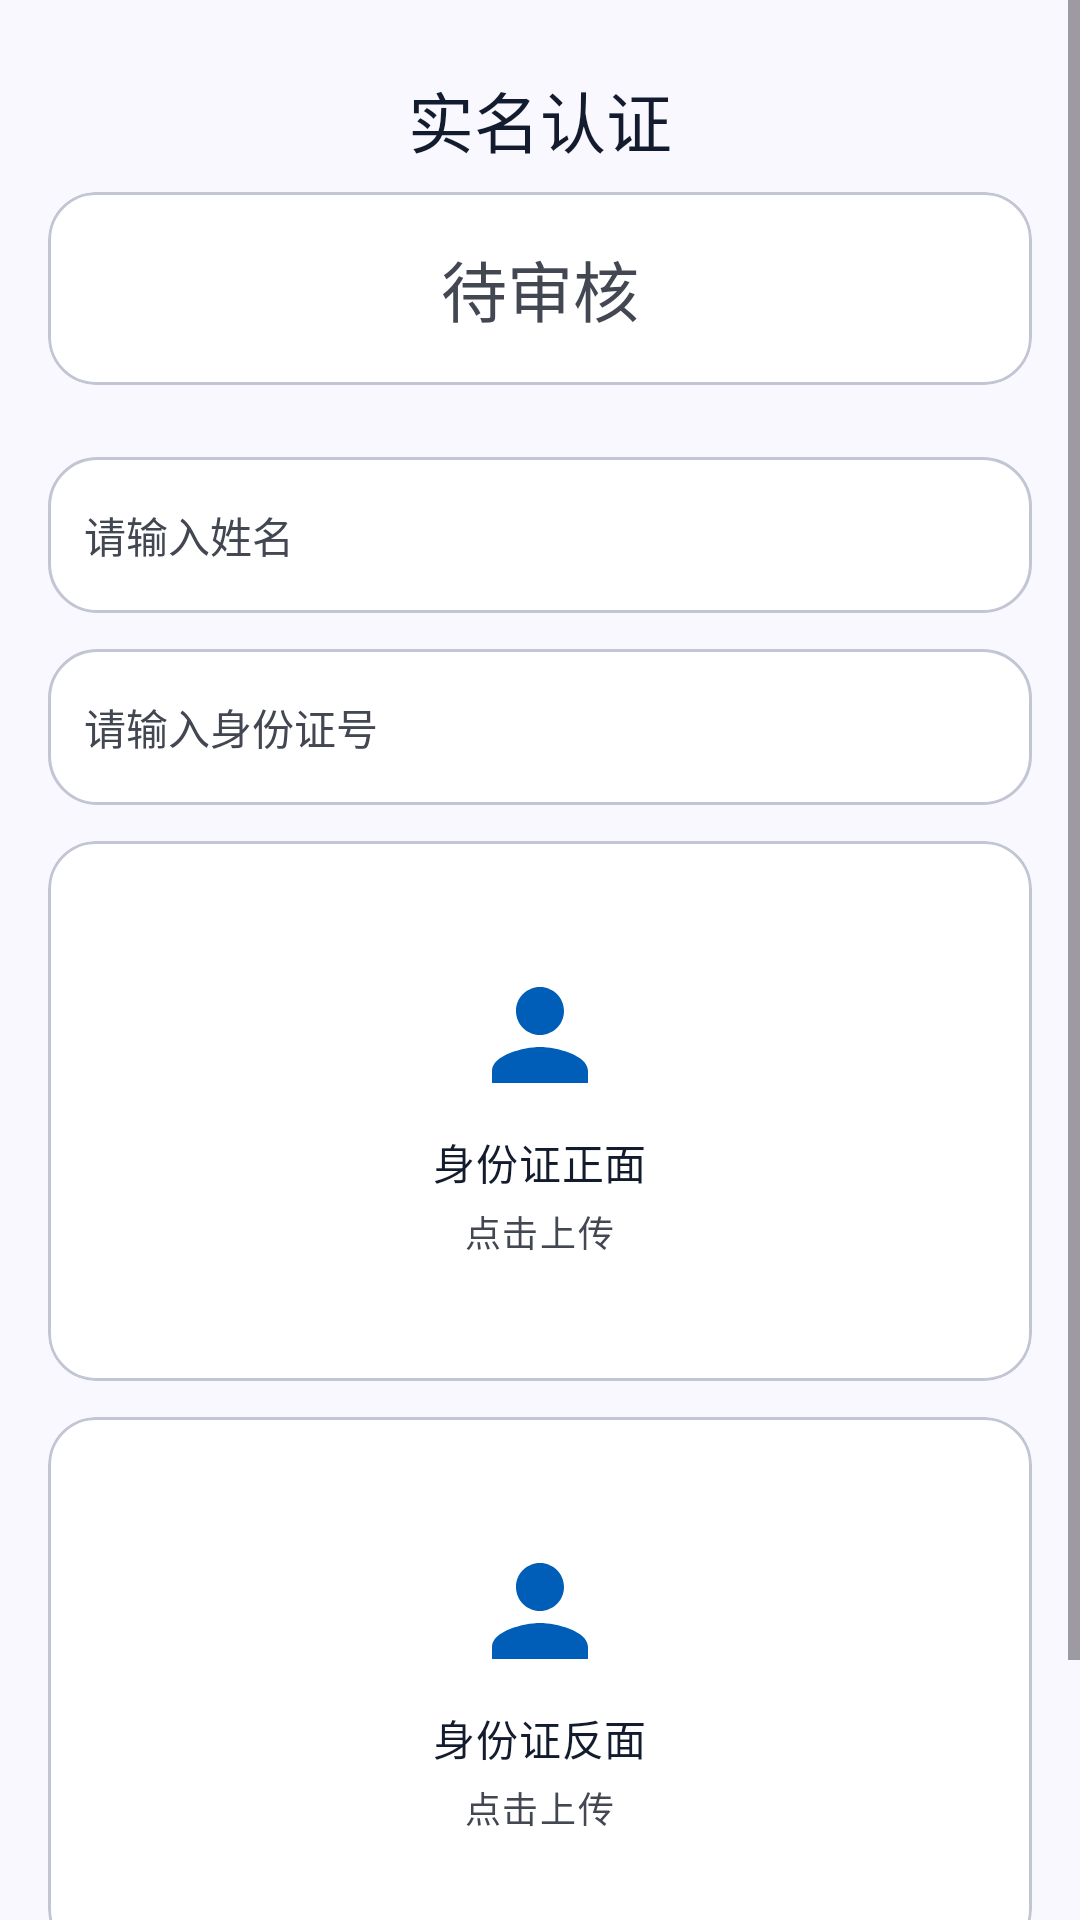

Named icons in this screenshot (1080*1920) and their centers, [x,y]:
home profile: [540,1035], [540,1611]
